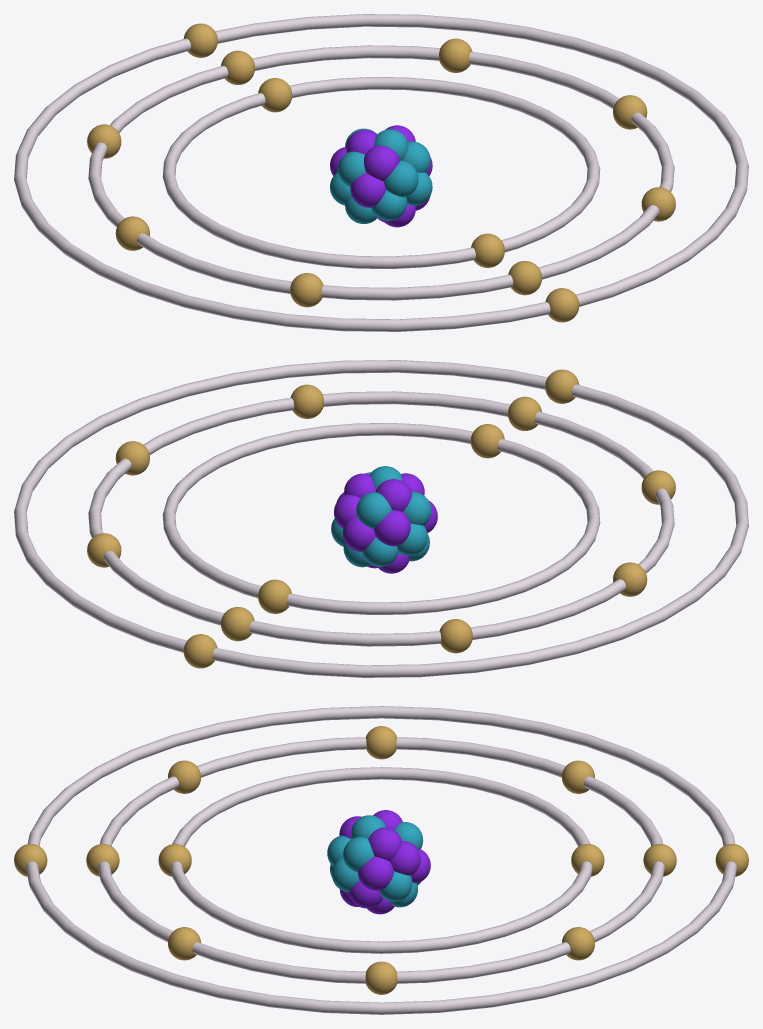
File: magnesio.glb
The picture shows the model from 3 angles, top to bottom: view 1: azimuth 30°, elevation 25°; view 2: azimuth 150°, elevation 25°; view 3: azimuth 270°, elevation 25°; orthographic projection. The views are drawn at different scales.
Visible parts, largest first — view 1: Orbita_3, Orbita_2, Orbita_1, Nucleo_Completo, Eletron_C2_8, Eletron_C2_4, Eletron_C3_2, Eletron_1, Eletron_C2_1, Eletron_2, Eletron_C3_1, Eletron_C2_5 (+4 smaller); view 2: Orbita_3, Orbita_2, Orbita_1, Nucleo_Completo, Eletron_C2_6, Eletron_C2_2, Eletron_C3_1, Eletron_2, Eletron_C2_5, Eletron_1, Eletron_C3_2, Eletron_C2_1 (+4 smaller); view 3: Orbita_3, Orbita_2, Orbita_1, Nucleo_Completo, Eletron_C2_3, Eletron_C2_7, Eletron_C2_2, Eletron_C2_4, Eletron_C2_6, Eletron_C2_8, Eletron_C2_1, Eletron_C2_5 (+4 smaller).
Boxes of the visible parts, bbox=[...] form: Orbita_3: bbox=[14, 14, 748, 331]; Orbita_2: bbox=[88, 45, 674, 300]; Orbita_1: bbox=[162, 77, 600, 268]; Nucleo_Completo: bbox=[330, 125, 432, 227]; Eletron_C2_8: bbox=[290, 273, 323, 307]; Eletron_C2_4: bbox=[439, 38, 472, 72]; Eletron_C3_2: bbox=[545, 288, 579, 322]; Eletron_1: bbox=[471, 233, 504, 267]; Eletron_C2_1: bbox=[508, 261, 542, 295]; Eletron_2: bbox=[258, 78, 292, 112]; Eletron_C3_1: bbox=[183, 23, 217, 57]; Eletron_C2_5: bbox=[221, 50, 254, 84]; Orbita_3: bbox=[14, 360, 748, 677]; Orbita_2: bbox=[88, 391, 674, 646]; Orbita_1: bbox=[162, 423, 600, 614]; Nucleo_Completo: bbox=[331, 466, 437, 573]; Eletron_C2_6: bbox=[439, 619, 472, 653]; Eletron_C2_2: bbox=[290, 384, 323, 418]; Eletron_C3_1: bbox=[183, 634, 217, 668]; Eletron_2: bbox=[258, 579, 291, 613]; Eletron_C2_5: bbox=[220, 607, 254, 641]; Eletron_1: bbox=[470, 424, 504, 458]; Eletron_C3_2: bbox=[545, 369, 579, 403]; Eletron_C2_1: bbox=[508, 396, 541, 430]; Orbita_3: bbox=[26, 706, 736, 1014]; Orbita_2: bbox=[98, 737, 664, 983]; Orbita_1: bbox=[170, 767, 592, 953]; Nucleo_Completo: bbox=[327, 810, 430, 914]; Eletron_C2_3: bbox=[365, 961, 397, 994]; Eletron_C2_7: bbox=[366, 726, 396, 759]; Eletron_C2_2: bbox=[168, 927, 200, 960]; Eletron_C2_4: bbox=[562, 927, 594, 960]; Eletron_C2_6: bbox=[561, 760, 594, 793]; Eletron_C2_8: bbox=[168, 760, 201, 793]; Eletron_C2_1: bbox=[86, 843, 119, 876]; Eletron_C2_5: bbox=[643, 843, 676, 876].
Bounding box in the file's own units: 3.46 × 0.4981 × 3.56.
